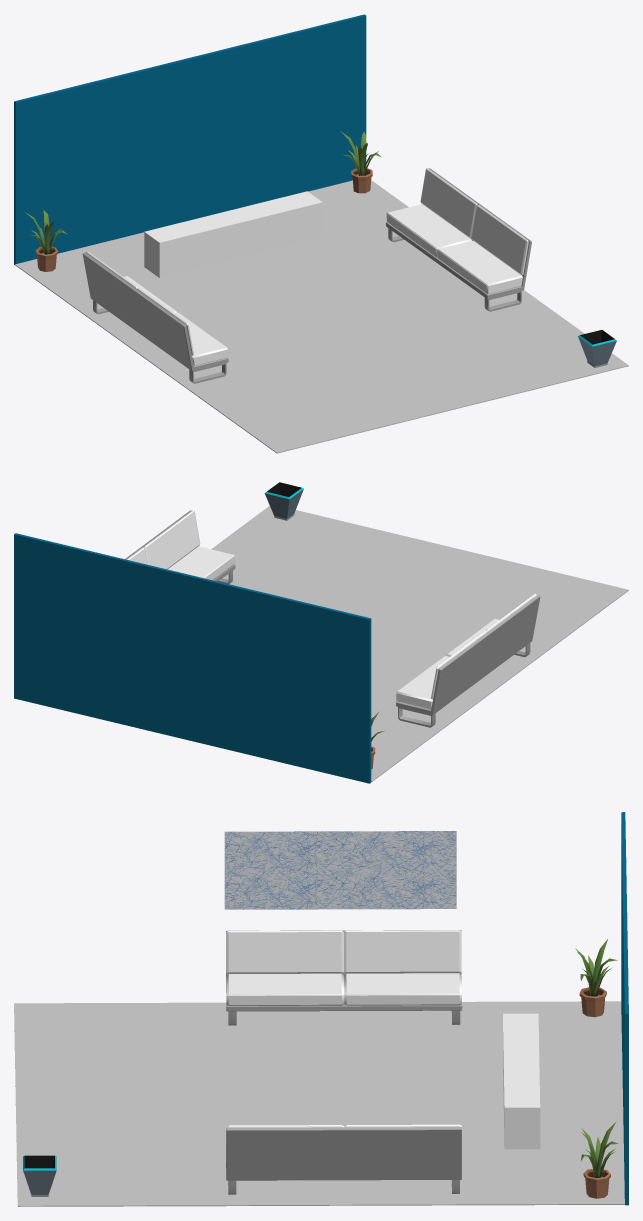
The model's file is soap-scene-4.24.gltf.
The picture shows the model from 3 angles, top to bottom: view 1: azimuth 30°, elevation 25°; view 2: azimuth 150°, elevation 25°; view 3: azimuth 270°, elevation 25°; orthographic projection. The views are drawn at different scales.
Visible parts, largest first — view 1: Lobby, Sofa parts 01.001, Boards, Sofa parts 03.001, Sofa parts 01, Boards.001, House plant 1, House plant, Buffer Layer.001; view 2: Lobby, Boards, Sofa parts 03.001, Sofa parts 01, Sofa parts 01.001, Buffer Layer.001, Sofa parts 03, Legs; view 3: Lobby, SquarePlane, Boards.001, Sofa parts 03, Sofa parts 01, Boards, House plant, House plant 1, Sofa parts 03.001, Buffer Layer.001.
Part boxes in pixels (left/top/right/bottom): Lobby: left=14, top=14, right=628, bottom=453; Sofa parts 01.001: left=386, top=204, right=522, bottom=294; Boards: left=82, top=252, right=228, bottom=371; Sofa parts 03.001: left=420, top=168, right=528, bottom=275; Sofa parts 01: left=124, top=276, right=228, bottom=365; Boards.001: left=386, top=168, right=531, bottom=299; House plant 1: left=340, top=131, right=381, bottom=193; House plant: left=25, top=210, right=66, bottom=271; Buffer Layer.001: left=578, top=336, right=616, bottom=365; Lobby: left=14, top=505, right=628, bottom=783; Boards: left=396, top=594, right=540, bottom=714; Sofa parts 03.001: left=127, top=510, right=200, bottom=569; Sofa parts 01: left=396, top=618, right=499, bottom=709; Sofa parts 01.001: left=167, top=546, right=234, bottom=580; Buffer Layer.001: left=264, top=489, right=303, bottom=518; Sofa parts 03: left=431, top=593, right=536, bottom=699; Legs: left=398, top=643, right=530, bottom=727; Lobby: left=14, top=812, right=628, bottom=1206; SquarePlane: left=224, top=831, right=456, bottom=909; Boards.001: left=226, top=1127, right=461, bottom=1180; Sofa parts 03: left=226, top=930, right=461, bottom=973; Sofa parts 01: left=226, top=973, right=461, bottom=1005; Boards: left=226, top=930, right=462, bottom=1011; House plant: left=575, top=939, right=617, bottom=1017; House plant 1: left=580, top=1121, right=618, bottom=1198; Sofa parts 03.001: left=226, top=1124, right=461, bottom=1127; Buffer Layer.001: left=23, top=1170, right=56, bottom=1194.
Bounding box in the file's own units: 0.0782 × 0.0341 × 0.0993.
16 materials, 3 textured.
